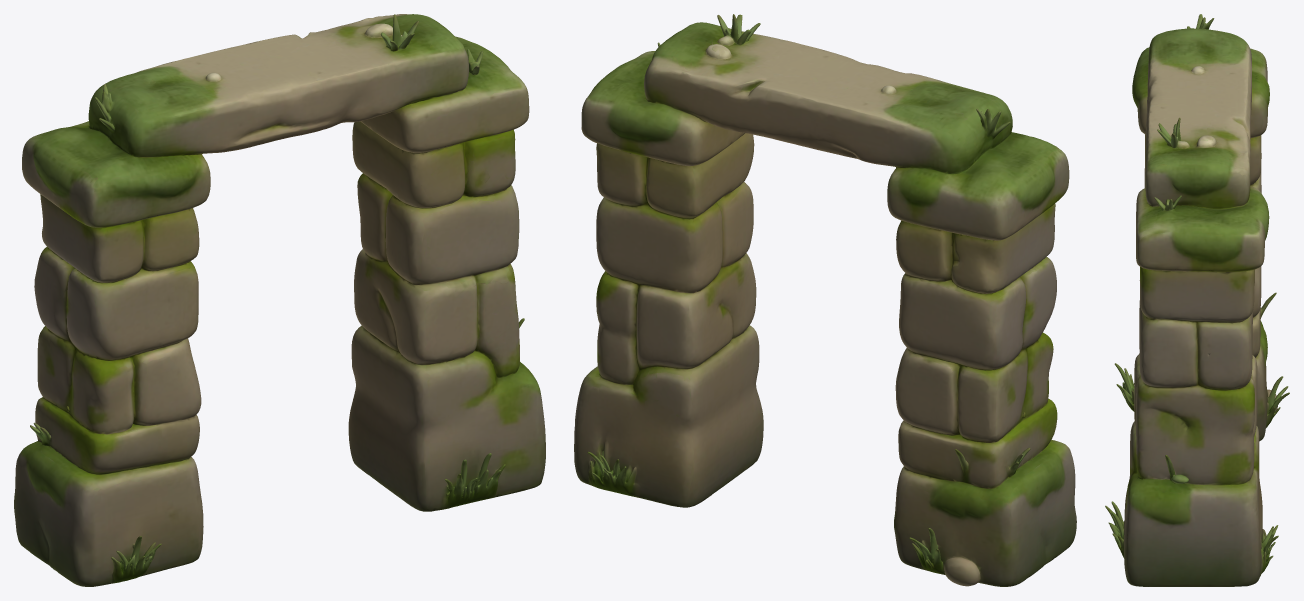
3 renders of one model, left to right at view 1: azimuth 30°, elevation 25°; view 2: azimuth 150°, elevation 25°; view 3: azimuth 270°, elevation 25°, orthographic. The views are drawn at different scales.
Parts seen in each view (by area): view 1: world; view 2: world; view 3: world.
Part boxes in pixels (<box>): world: <box>14,14,545,586</box>; world: <box>574,14,1076,586</box>; world: <box>1105,14,1289,586</box>.
Bounding box in the file's own units: 1 × 0.9936 × 0.3958.
1 material, 1 textured.
